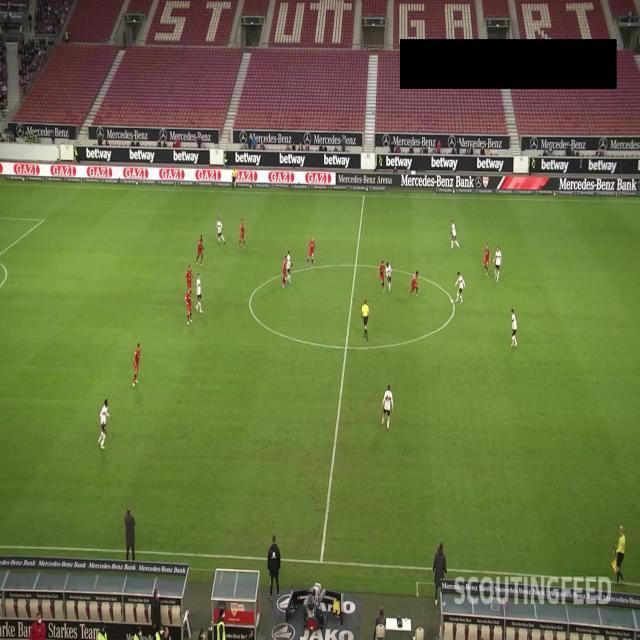Ball: (450, 298, 454, 304)
Referee: (612, 524, 627, 588), (362, 299, 371, 340), (231, 168, 238, 190)
TEAM 1: (132, 342, 142, 386), (482, 242, 492, 278), (184, 288, 193, 325), (194, 234, 204, 267), (186, 265, 194, 300), (280, 255, 288, 289), (378, 260, 386, 294), (408, 271, 418, 298), (307, 235, 315, 267), (239, 217, 246, 250)
TEAM 2: (98, 398, 110, 449), (382, 383, 393, 427), (193, 272, 204, 313), (454, 270, 466, 306), (511, 307, 519, 349), (493, 246, 502, 281), (216, 217, 227, 245), (450, 220, 460, 250), (286, 249, 294, 284), (385, 261, 393, 292)
